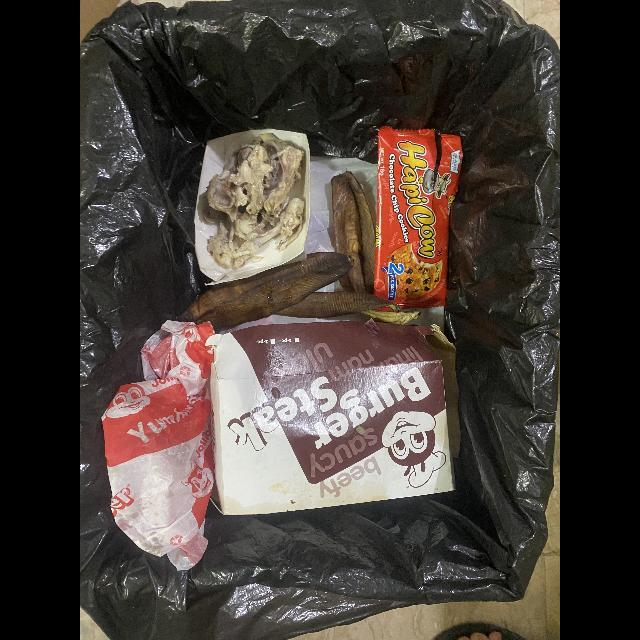biowaste: (177, 252, 401, 335), (207, 134, 305, 269), (330, 172, 375, 295), (361, 309, 420, 325)
paper: (204, 315, 460, 517), (101, 320, 215, 573), (194, 129, 310, 283)
wrapper: (373, 126, 463, 310)
